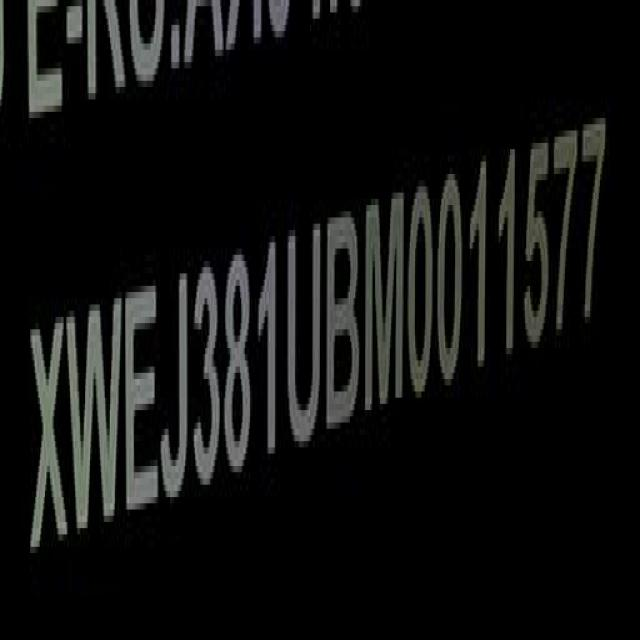0: (437, 172, 463, 394), (410, 176, 435, 406)
1: (258, 234, 280, 476), (498, 140, 520, 373), (469, 155, 485, 385)
3: (194, 261, 223, 494)
5: (525, 126, 551, 362)
7: (581, 107, 609, 346), (556, 122, 578, 349)
8: (224, 248, 253, 482)
B: (328, 204, 364, 440)
E: (127, 284, 162, 528)
J: (162, 277, 190, 511)
M: (367, 183, 407, 421)
U: (287, 223, 323, 451)
W: (71, 295, 122, 546)
X: (31, 314, 68, 564)
